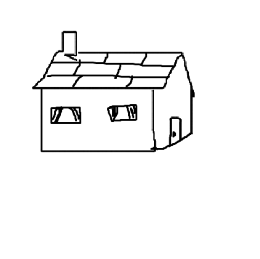chimney: (58, 29, 82, 60)
door: (167, 112, 186, 151)
open_window: (105, 101, 142, 125), (47, 103, 84, 127)
roof: (29, 47, 197, 92)
wall: (37, 85, 157, 155)
